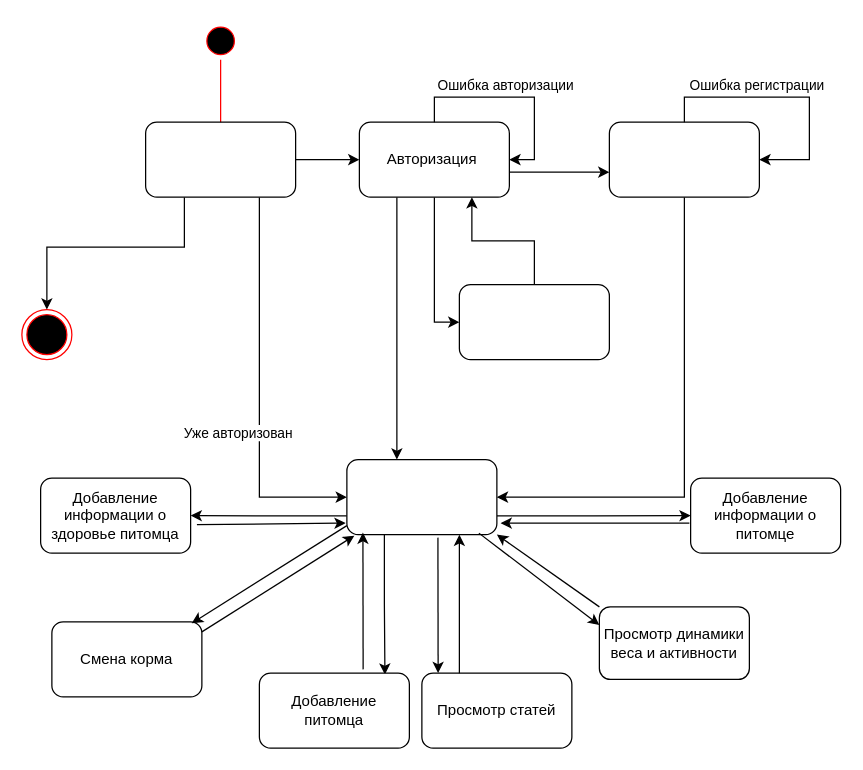
Image size: 863x770. Some labels were removed from this diagram. The shapes that lost their labels are listed below. From the top down, each one's centre as x and y in pixels, then its label:
At point 220,159: "Главная страница".
At point 683,159: "Регистрация".
At point 533,321: "Восстановление пароля".
At point 421,496: "Аккаунт пользователя".
